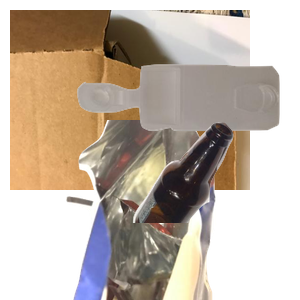cardboard: (10, 10, 250, 190)
glass: (130, 120, 300, 300)
plastic: (75, 62, 300, 186)
trash: (63, 120, 300, 300)
